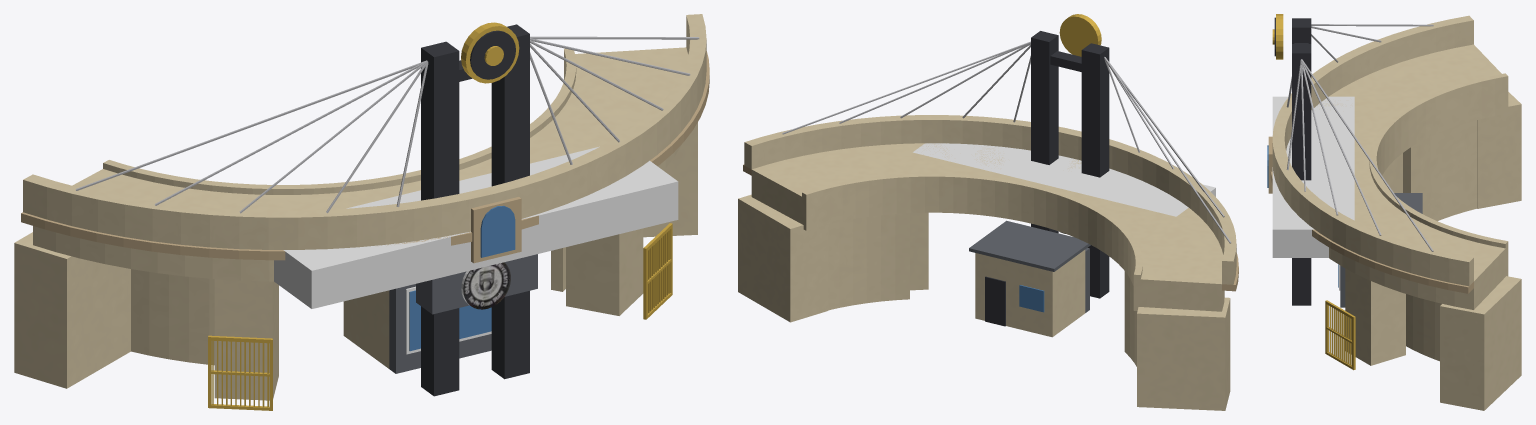
Rendered from AR_OAUGate.glb.
The picture shows the model from 3 angles, left to right: view 1: azimuth 30°, elevation 25°; view 2: azimuth 150°, elevation 25°; view 3: azimuth 270°, elevation 25°; orthographic projection. The views are drawn at different scales.
Visible parts, largest first — view 1: COL_roof_centre, AR_OAUGate_Pier_L_66_LOD0, AR_OAUGate_Fascia_C_LOD0, AR_OAUGate_Fascia_L_LOD0, AR_OAUGate_Pillar_L_LOD0, AR_OAUGate_RoofSlab_L_LOD0, AR_OAUGate_RoofSlab_R_LOD0, AR_OAUGate_Pillar_R_LOD0, AR_OAUGate_BackWall_L_LOD0, AR_OAUGate_Pier_L_36_LOD0, AR_OAUGate_Pier_R_36_LOD0, AR_OAUGate_RearLip_LOD0 (+22 smaller); view 2: AR_OAUGate_RearLip_LOD0, AR_OAUGate_Pier_L_66_LOD0, AR_OAUGate_Pier_R_66_LOD0, AR_OAUGate_RoofSlab_L_LOD0, AR_OAUGate_BackWall_R_LOD0, AR_OAUGate_RoofSlab_R_LOD0, COL_roof_centre, AR_OAUGate_Booth_LOD0, AR_OAUGate_Fascia_R_LOD0, AR_OAUGate_Fascia_C_LOD0, AR_OAUGate_Pillar_L_LOD0, AR_OAUGate_Pillar_R_LOD0 (+12 smaller); view 3: AR_OAUGate_Pier_R_66_LOD0, COL_roof_centre, AR_OAUGate_RearLip_LOD0, AR_OAUGate_RoofSlab_R_LOD0, AR_OAUGate_RoofSlab_L_LOD0, AR_OAUGate_BackWall_L_LOD0, AR_OAUGate_Fascia_R_LOD0, AR_OAUGate_Fascia_L_LOD0, AR_OAUGate_Pier_R_36_LOD0, AR_OAUGate_Pier_L_66_LOD0, AR_OAUGate_Pillar_R_LOD0, AR_OAUGate_Fascia_C_LOD0 (+16 smaller).
Boxes of the visible parts, left/top/right/bottom form: COL_roof_centre: left=274, top=146, right=678, bottom=308; AR_OAUGate_Pier_L_66_LOD0: left=14, top=232, right=130, bottom=388; AR_OAUGate_Fascia_C_LOD0: left=297, top=130, right=642, bottom=249; AR_OAUGate_Fascia_L_LOD0: left=23, top=174, right=298, bottom=249; AR_OAUGate_Pillar_L_LOD0: left=421, top=41, right=459, bottom=396; AR_OAUGate_RoofSlab_L_LOD0: left=33, top=169, right=294, bottom=281; AR_OAUGate_RoofSlab_R_LOD0: left=532, top=47, right=687, bottom=170; AR_OAUGate_Pillar_R_LOD0: left=491, top=24, right=529, bottom=379; AR_OAUGate_BackWall_L_LOD0: left=131, top=269, right=214, bottom=365; AR_OAUGate_Pier_L_36_LOD0: left=214, top=279, right=278, bottom=400; AR_OAUGate_Pier_R_36_LOD0: left=566, top=228, right=643, bottom=315; AR_OAUGate_RearLip_LOD0: left=103, top=48, right=576, bottom=194; AR_OAUGate_RearLip_LOD0: left=802, top=173, right=1142, bottom=310; AR_OAUGate_Pier_L_66_LOD0: left=1137, top=297, right=1230, bottom=410; AR_OAUGate_Pier_R_66_LOD0: left=738, top=194, right=828, bottom=322; AR_OAUGate_RoofSlab_L_LOD0: left=1115, top=208, right=1224, bottom=311; AR_OAUGate_BackWall_R_LOD0: left=828, top=213, right=909, bottom=310; AR_OAUGate_RoofSlab_R_LOD0: left=751, top=143, right=941, bottom=223; COL_roof_centre: left=913, top=143, right=1215, bottom=216; AR_OAUGate_Booth_LOD0: left=975, top=250, right=1085, bottom=337; AR_OAUGate_Fascia_R_LOD0: left=744, top=115, right=942, bottom=169; AR_OAUGate_Fascia_C_LOD0: left=942, top=115, right=1189, bottom=200; AR_OAUGate_Pillar_L_LOD0: left=1081, top=43, right=1109, bottom=298; AR_OAUGate_Pillar_R_LOD0: left=1031, top=31, right=1058, bottom=233; AR_OAUGate_Pier_R_66_LOD0: left=1440, top=276, right=1521, bottom=410; COL_roof_centre: left=1272, top=96, right=1354, bottom=257; AR_OAUGate_RearLip_LOD0: left=1369, top=73, right=1508, bottom=276; AR_OAUGate_RoofSlab_R_LOD0: left=1329, top=206, right=1505, bottom=309; AR_OAUGate_RoofSlab_L_LOD0: left=1323, top=44, right=1501, bottom=118; AR_OAUGate_BackWall_L_LOD0: left=1403, top=120, right=1476, bottom=221; AR_OAUGate_Fascia_R_LOD0: left=1309, top=199, right=1473, bottom=286; AR_OAUGate_Fascia_L_LOD0: left=1311, top=15, right=1473, bottom=101; AR_OAUGate_Pier_R_36_LOD0: left=1345, top=268, right=1405, bottom=365; AR_OAUGate_Pier_L_66_LOD0: left=1477, top=92, right=1521, bottom=208; AR_OAUGate_Pillar_R_LOD0: left=1292, top=44, right=1311, bottom=305; AR_OAUGate_Fascia_C_LOD0: left=1272, top=77, right=1319, bottom=224.
Size of the model in its own units: 24.29 by 12.4 by 10.51.
Materials: 9 (2 with a texture image).
